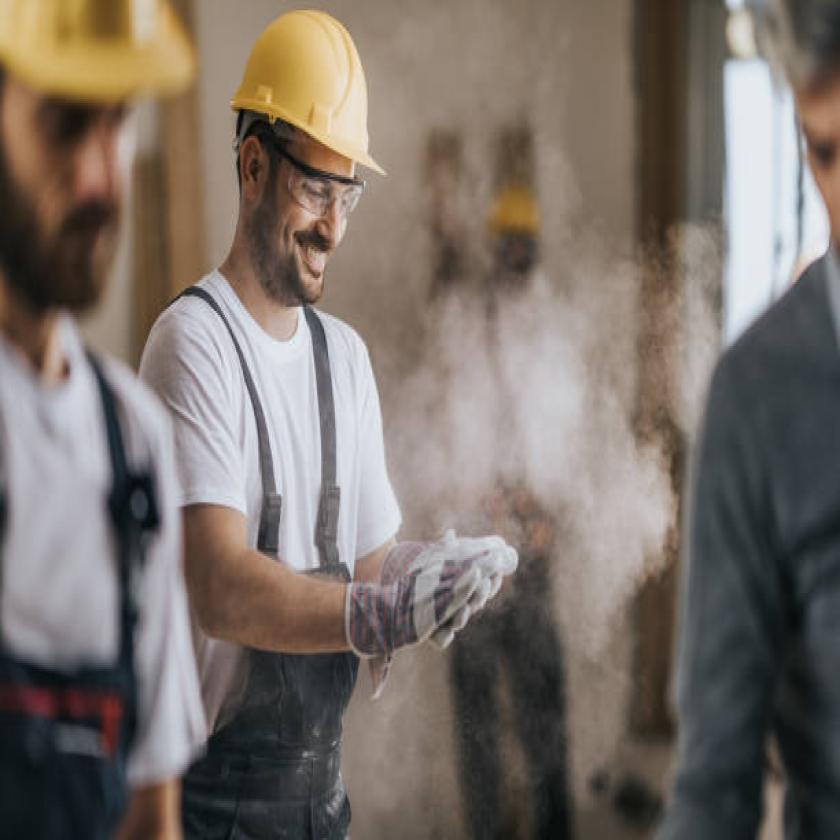Con_casco: (222, 0, 404, 313)
